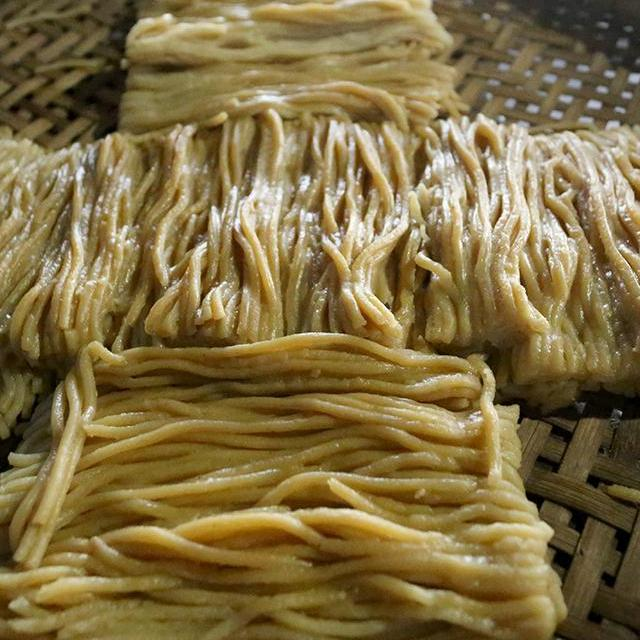mi: (0, 324, 583, 640), (78, 104, 521, 400), (398, 104, 640, 419), (107, 0, 475, 144), (0, 117, 139, 446)
